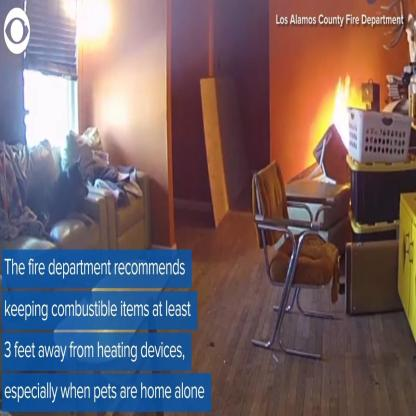fire: (325, 68, 361, 153)
